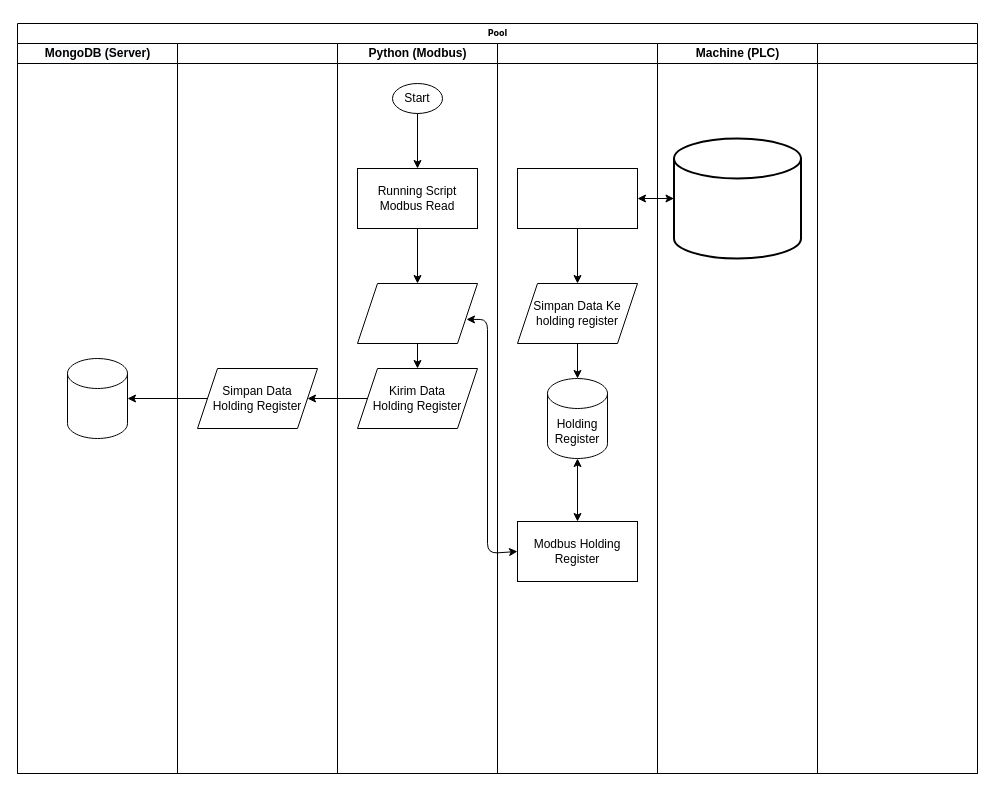
The diagram is 995 pixels wide and 791 high, and some of its shapes have lost their labels. Each missing label, with the box of its shape:
1. Counter 2. Running Hour: (672, 137, 802, 259)
Ambil Data Holding Register: (356, 282, 478, 344)
Display: (816, 42, 978, 774)
Keyence (PLC): (496, 42, 658, 774)
Mengambil Data Mesin: (516, 168, 638, 228)
Node Js (Server): (176, 42, 338, 774)
